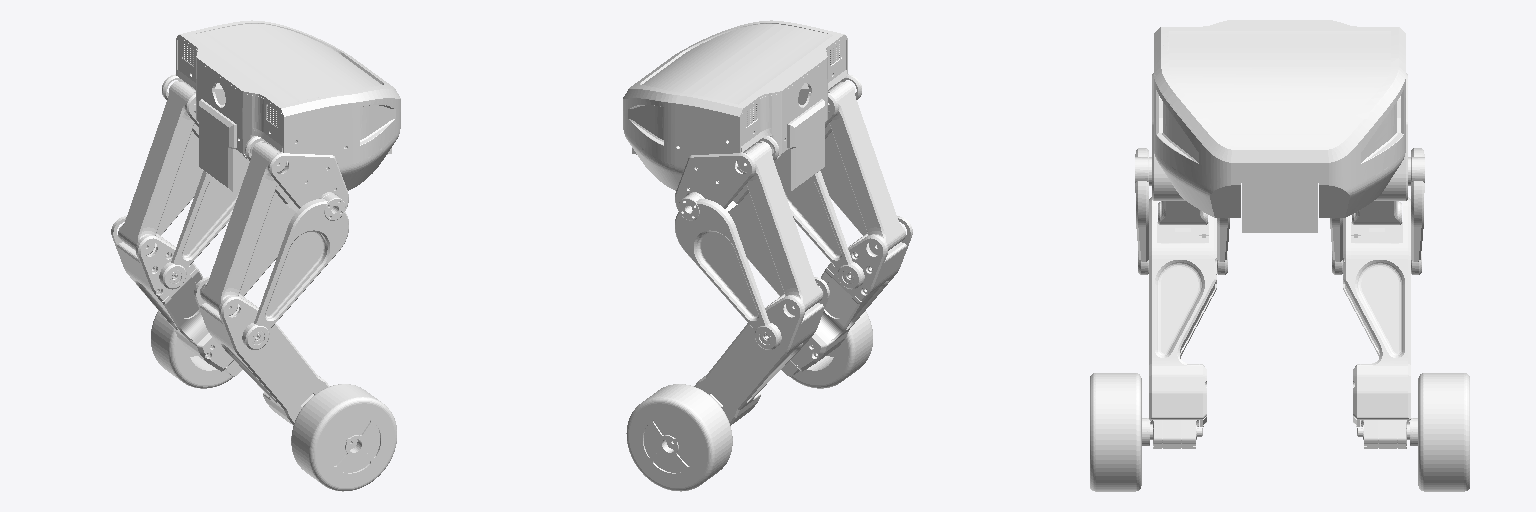
The robot description file, URDF, robot "converted_robot":
<?xml version="1.0" ?>
<robot name="converted_robot">
   <!--generated with mjcf_urdf_simple_converter (https://github.com/Yasu31/mjcf_urdf_simple_converter)-->
   <link name="world">
   </link>
   <link name="body">
      <visual name="back_cap">
         <origin xyz="-1.3017893472040155e-06 0.04705168550547671 0.020957944471496792" rpy="1.5707963267948966 0.09910741668815781 1.5707963267948966"/>
         <geometry>
            <mesh filename="package://real/urdf/converted_back_cap.stl"/>
         </geometry>
         <material name="white"/>
      </visual>
      <visual name="back">
         <origin xyz="-3.85359492032149e-08 0.04173286765710978 0.06858943844446108" rpy="1.5707963267948966 -0.1361996668310712 1.5707963267948966"/>
         <geometry>
            <mesh filename="package://real/urdf/converted_back.stl"/>
         </geometry>
         <material name="white"/>
      </visual>
      <visual name="mounting_plate">
         <origin xyz="0.0005064714810789949 -0.022630207076506488 0.02728297722637198" rpy="-3.046848796651417 -1.3622233636494134 -1.6118938119900492"/>
         <geometry>
            <mesh filename="package://real/urdf/converted_mounting_plate.stl"/>
         </geometry>
         <material name="white"/>
      </visual>
      <visual name="shell">
         <origin xyz="2.9272794857905294e-06 -0.03412086291499505 0.05146825679083157" rpy="-1.5707450393008402 -1.0087108776142575 -1.5708175925832464"/>
         <geometry>
            <mesh filename="package://real/urdf/converted_shell.stl"/>
         </geometry>
         <material name="white"/>
      </visual>
      <visual name="battery">
         <origin xyz="0.0 -0.021999999999999995 0.017500000000000005" rpy="1.5707963267948966 -1.5707963267948966 0.0"/>
         <geometry>
            <mesh filename="package://real/urdf/converted_battery.stl"/>
         </geometry>
         <material name="white"/>
      </visual>
   </link>
   <joint type="fixed" name="world2body_fixed">
      <parent link="world"/>
      <child link="body"/>
      <origin xyz="0.0 0.0 0.0" rpy="0.0 0.0 1.5707963267948963"/>
   </joint>
   <link name="R_leg">
      <inertial>
         <origin xyz="0.00018783278849772705 0.005918668289206253 0.01467563643099721" rpy="-0.018424504058215163 0.5085271255131132 1.5302644864367805"/>
         <mass value="0.095"/>
         <inertia ixx="3.355776242730135e-05" iyy="2.9983109543121377e-05" izz="1.742999638054603e-05" ixy="0" ixz="0" iyz="0"/>
      </inertial>
      <visual name="R_hip">
         <origin xyz="0.00038823186777163423 0.007685755288271978 0.016511936282671336" rpy="-0.07984572359778741 0.5907813735887242 1.4507917776865322"/>
         <geometry>
            <mesh filename="package://real/urdf/converted_R_hip.stl"/>
         </geometry>
         <material name="white"/>
      </visual>
      <visual name="R_hip_servo">
         <origin xyz="7.093332558794784e-05 0.004887867539751247 0.013604461517520637" rpy="0.02923429886292006 0.3459158051837452 1.571544480597519"/>
         <geometry>
            <mesh filename="package://real/urdf/converted_R_hip_servo.stl"/>
         </geometry>
         <material name="white"/>
      </visual>
   </link>
   <joint type="fixed" name="body2R_leg_fixed">
      <parent link="body"/>
      <child link="R_leg"/>
      <origin xyz="-0.0654 0.0 0.0" rpy="0.0 0.0 0.0"/>
   </joint>
   <link name="R_thigh">
      <inertial>
         <origin xyz="-1.93156937427319e-05 0.029542550175577838 -0.041686377631257654" rpy="-0.0013084836690608892 -0.6166563133427576 1.5707963267948968"/>
         <mass value="0.04"/>
         <inertia ixx="6.72480900402196e-05" iyy="5.3689716820993514e-05" izz="1.9513574556234947e-05" ixy="0" ixz="0" iyz="0"/>
      </inertial>
      <visual name="R_thigh">
         <origin xyz="-1.93156937427319e-05 0.029542550175577838 -0.041686377631257654" rpy="-0.0013084836690608892 -0.6166563133427577 1.5707963267948966"/>
         <geometry>
            <mesh filename="package://real/urdf/converted_R_thigh.stl"/>
         </geometry>
         <material name="white"/>
      </visual>
   </link>
   <link name="R_hip_jointbody">
      <inertial>
         <origin xyz="0.0 0.0 0.0" rpy="0.0 0.0 0.0"/>
         <mass value="0.001"/>
         <inertia ixx="1e-09" iyy="1e-09" izz="1e-09" ixy="0" ixz="0" iyz="0"/>
      </inertial>
   </link>
   <joint type="revolute" name="R_hip">
      <parent link="R_leg"/>
      <child link="R_hip_jointbody"/>
      <origin xyz="-0.0177 -8e-06 7e-06" rpy="0.0 0.0 0.0"/>
      <axis xyz="1.0 0.0 0.0"/>
      <limit lower="0.0" upper="0.0" effort="100" velocity="100"/>
   </joint>
   <joint type="fixed" name="R_hip_offset">
      <parent link="R_hip_jointbody"/>
      <child link="R_thigh"/>
      <origin xyz="0.0177 8e-06 -7e-06" rpy="0.0 0.0 0.0"/>
   </joint>
   <link name="R_shin">
      <inertial>
         <origin xyz="-0.0030644877701907214 0.02758176919692322 -0.15408565826256643" rpy="0.06011168617215179 0.6246093917962585 1.5795761449033665"/>
         <mass value="0.12"/>
         <inertia ixx="0.0002452394386700719" iyy="0.000239594724237697" izz="2.205816915135748e-05" ixy="0" ixz="0" iyz="0"/>
      </inertial>
      <visual name="R_shin">
         <origin xyz="-0.0007732368426556091 0.04750478541050801 -0.12639033739694466" rpy="0.04478536342579842 0.6266757892014847 1.5904754797573628"/>
         <geometry>
            <mesh filename="package://real/urdf/converted_R_shin.stl"/>
         </geometry>
         <material name="white"/>
      </visual>
      <visual name="R_shin_servo">
         <origin xyz="-0.0053557386977258325 0.007658752983338433 -0.18178097912818825" rpy="0.029476548374650635 0.6286543606640387 1.5716548668968995"/>
         <geometry>
            <mesh filename="package://real/urdf/converted_R_shin_servo.stl"/>
         </geometry>
         <material name="white"/>
      </visual>
   </link>
   <link name="R_shin_jointbody">
      <inertial>
         <origin xyz="0.0 0.0 0.0" rpy="0.0 0.0 0.0"/>
         <mass value="0.001"/>
         <inertia ixx="1e-09" iyy="1e-09" izz="1e-09" ixy="0" ixz="0" iyz="0"/>
      </inertial>
   </link>
   <joint type="revolute" name="R_shin">
      <parent link="R_thigh"/>
      <child link="R_shin_jointbody"/>
      <origin xyz="-0.0177 0.068524 -0.096679" rpy="0.0 0.0 0.0"/>
      <axis xyz="1.0 0.0 0.0"/>
      <limit lower="0.0" upper="0.0" effort="100" velocity="100"/>
   </joint>
   <joint type="fixed" name="R_shin_offset">
      <parent link="R_shin_jointbody"/>
      <child link="R_shin"/>
      <origin xyz="0.0177 -0.068524 0.096679" rpy="0.0 0.0 0.0"/>
   </joint>
   <link name="R_link">
      <inertial>
         <origin xyz="-1.0357761478282062e-07 0.06453533822888903 -0.01615885569075709" rpy="0.0 -0.3788145161304679 1.5707963267948968"/>
         <mass value="0.03"/>
         <inertia ixx="5.223291601939314e-05" iyy="5.082332556459172e-05" izz="2.4974811136368724e-06" ixy="0" ixz="0" iyz="0"/>
      </inertial>
      <visual name="R_link">
         <origin xyz="-1.0357761478282062e-07 0.06453533822888903 -0.01615885569075709" rpy="0.0 -0.3788145161304677 1.5707963267948966"/>
         <geometry>
            <mesh filename="package://real/urdf/converted_R_link.stl"/>
         </geometry>
         <material name="white"/>
      </visual>
   </link>
   <link name="R_link_jointbody">
      <inertial>
         <origin xyz="0.0 0.0 0.0" rpy="0.0 0.0 0.0"/>
         <mass value="0.001"/>
         <inertia ixx="1e-09" iyy="1e-09" izz="1e-09" ixy="0" ixz="0" iyz="0"/>
      </inertial>
   </link>
   <joint type="revolute" name="R_link">
      <parent link="R_shin"/>
      <child link="R_link_jointbody"/>
      <origin xyz="-0.0177 0.086545 -0.071455" rpy="0.0 0.0 0.0"/>
      <axis xyz="1.0 0.0 0.0"/>
      <limit lower="0.0" upper="0.0" effort="100" velocity="100"/>
   </joint>
   <joint type="fixed" name="R_link_offset">
      <parent link="R_link_jointbody"/>
      <child link="R_link"/>
      <origin xyz="0.0177 -0.086545 0.071455" rpy="0.0 0.0 0.0"/>
   </joint>
   <link name="R_foot">
      <inertial>
         <origin xyz="-0.04513895095818226 -0.0008379780728815871 -0.19347312397271466" rpy="2.3935463914845023e-10 3.717269010494739e-05 6.4389915963794836e-06"/>
         <mass value="0.2809557368467721"/>
         <inertia ixx="0.00020391702485105176" iyy="0.0001296759369133871" izz="0.000129674731888178" ixy="0" ixz="0" iyz="0"/>
      </inertial>
      <visual name="R_foot">
         <origin xyz="-0.04539039068841661 -0.000837938394502894 -0.19347153875108544" rpy="2.932427570976866e-09 0.00013177355507232313 2.2253536207419437e-05"/>
         <geometry>
            <mesh filename="package://real/urdf/converted_R_foot.stl"/>
         </geometry>
         <material name="white"/>
      </visual>
   </link>
   <link name="R_foot_jointbody">
      <inertial>
         <origin xyz="0.0 0.0 0.0" rpy="0.0 0.0 0.0"/>
         <mass value="0.001"/>
         <inertia ixx="1e-09" iyy="1e-09" izz="1e-09" ixy="0" ixz="0" iyz="0"/>
      </inertial>
   </link>
   <joint type="revolute" name="R_foot">
      <parent link="R_shin"/>
      <child link="R_foot_jointbody"/>
      <origin xyz="-0.0177 -0.000838 -0.193474" rpy="0.0 0.0 0.0"/>
      <axis xyz="1.0 0.0 0.0"/>
      <limit lower="0.0" upper="0.0" effort="100" velocity="100"/>
   </joint>
   <joint type="fixed" name="R_foot_offset">
      <parent link="R_foot_jointbody"/>
      <child link="R_foot"/>
      <origin xyz="0.0177 0.000838 0.193474" rpy="0.0 0.0 0.0"/>
   </joint>
   <link name="L_leg">
      <inertial>
         <origin xyz="-0.00018783278849772694 0.005918668289206252 0.014675636430997207" rpy="0.018424504058215052 0.5085271255131132 1.6113281671530126"/>
         <mass value="0.095"/>
         <inertia ixx="3.3557762427301364e-05" iyy="2.998310954312138e-05" izz="1.742999638054604e-05" ixy="0" ixz="0" iyz="0"/>
      </inertial>
      <visual name="L_hip">
         <origin xyz="-0.00038823186777163423 0.007685755288271978 0.016511936282671336" rpy="0.07984572359778752 0.5907813735887242 1.690800875903261"/>
         <geometry>
            <mesh filename="package://real/urdf/converted_L_hip.stl"/>
         </geometry>
         <material name="white"/>
      </visual>
      <visual name="L_hip_servo">
         <origin xyz="-7.09333255879477e-05 0.004887867539751246 0.013604461517520634" rpy="-0.02923429886292017 0.3459158051837452 1.5700481729922744"/>
         <geometry>
            <mesh filename="package://real/urdf/converted_L_hip_servo.stl"/>
         </geometry>
         <material name="white"/>
      </visual>
   </link>
   <joint type="fixed" name="body2L_leg_fixed">
      <parent link="body"/>
      <child link="L_leg"/>
      <origin xyz="0.0654 0.0 0.0" rpy="0.0 0.0 0.0"/>
   </joint>
   <link name="L_thigh">
      <inertial>
         <origin xyz="1.9315693742735344e-05 0.029542550175577838 -0.041686377631257654" rpy="0.0013084836690608892 -0.6166563133427576 1.5707963267948963"/>
         <mass value="0.04"/>
         <inertia ixx="6.724809004021961e-05" iyy="5.3689716820993534e-05" izz="1.9513574556234947e-05" ixy="0" ixz="0" iyz="0"/>
      </inertial>
      <visual name="L_thigh">
         <origin xyz="1.9315693742735344e-05 0.029542550175577838 -0.041686377631257654" rpy="0.0013084836690608892 -0.6166563133427577 1.5707963267948966"/>
         <geometry>
            <mesh filename="package://real/urdf/converted_L_thigh.stl"/>
         </geometry>
         <material name="white"/>
      </visual>
   </link>
   <link name="L_hip_jointbody">
      <inertial>
         <origin xyz="0.0 0.0 0.0" rpy="0.0 0.0 0.0"/>
         <mass value="0.001"/>
         <inertia ixx="1e-09" iyy="1e-09" izz="1e-09" ixy="0" ixz="0" iyz="0"/>
      </inertial>
   </link>
   <joint type="revolute" name="L_hip">
      <parent link="L_leg"/>
      <child link="L_hip_jointbody"/>
      <origin xyz="-0.0177 -8e-06 7e-06" rpy="0.0 0.0 0.0"/>
      <axis xyz="1.0 0.0 0.0"/>
      <limit lower="0.0" upper="0.0" effort="100" velocity="100"/>
   </joint>
   <joint type="fixed" name="L_hip_offset">
      <parent link="L_hip_jointbody"/>
      <child link="L_thigh"/>
      <origin xyz="0.0177 8e-06 -7e-06" rpy="0.0 0.0 0.0"/>
   </joint>
   <link name="L_shin">
      <inertial>
         <origin xyz="0.003064487770190723 0.027581769196923216 -0.15408565826256648" rpy="-0.06011168617215212 0.6246093917962581 1.5620165086864266"/>
         <mass value="0.12"/>
         <inertia ixx="0.000245239438670072" iyy="0.00023959472423769711" izz="2.20581691513575e-05" ixy="0" ixz="0" iyz="0"/>
      </inertial>
      <visual name="L_shin">
         <origin xyz="0.0007732368426556096 0.047504785410508 -0.1263903373969447" rpy="-0.04478536342579842 0.6266757892014847 1.5511171738324303"/>
         <geometry>
            <mesh filename="package://real/urdf/converted_L_shin.stl"/>
         </geometry>
         <material name="white"/>
      </visual>
      <visual name="L_shin_servo">
         <origin xyz="0.005355738697725837 0.007658752983338434 -0.18178097912818833" rpy="-0.029476548374650746 0.6286543606640391 1.5699377866928939"/>
         <geometry>
            <mesh filename="package://real/urdf/converted_L_shin_servo.stl"/>
         </geometry>
         <material name="white"/>
      </visual>
   </link>
   <link name="L_shin_jointbody">
      <inertial>
         <origin xyz="0.0 0.0 0.0" rpy="0.0 0.0 0.0"/>
         <mass value="0.001"/>
         <inertia ixx="1e-09" iyy="1e-09" izz="1e-09" ixy="0" ixz="0" iyz="0"/>
      </inertial>
   </link>
   <joint type="revolute" name="L_shin">
      <parent link="L_thigh"/>
      <child link="L_shin_jointbody"/>
      <origin xyz="-0.0177 0.068524 -0.096679" rpy="0.0 0.0 0.0"/>
      <axis xyz="1.0 0.0 0.0"/>
      <limit lower="0.0" upper="0.0" effort="100" velocity="100"/>
   </joint>
   <joint type="fixed" name="L_shin_offset">
      <parent link="L_shin_jointbody"/>
      <child link="L_shin"/>
      <origin xyz="0.0177 -0.068524 0.096679" rpy="0.0 0.0 0.0"/>
   </joint>
   <link name="L_link">
      <inertial>
         <origin xyz="1.0357761478281944e-07 0.06453533822888902 -0.016158855690757087" rpy="0.0 -0.3788145161304679 1.5707963267948968"/>
         <mass value="0.03"/>
         <inertia ixx="5.2232916019393134e-05" iyy="5.0823325564591695e-05" izz="2.497481113636869e-06" ixy="0" ixz="0" iyz="0"/>
      </inertial>
      <visual name="L_link">
         <origin xyz="1.0357761478281944e-07 0.06453533822888902 -0.016158855690757087" rpy="0.0 -0.3788145161304677 1.5707963267948966"/>
         <geometry>
            <mesh filename="package://real/urdf/converted_L_link.stl"/>
         </geometry>
         <material name="white"/>
      </visual>
   </link>
   <link name="L_link_jointbody">
      <inertial>
         <origin xyz="0.0 0.0 0.0" rpy="0.0 0.0 0.0"/>
         <mass value="0.001"/>
         <inertia ixx="1e-09" iyy="1e-09" izz="1e-09" ixy="0" ixz="0" iyz="0"/>
      </inertial>
   </link>
   <joint type="revolute" name="L_link">
      <parent link="L_shin"/>
      <child link="L_link_jointbody"/>
      <origin xyz="-0.0177 0.086545 -0.071455" rpy="0.0 0.0 0.0"/>
      <axis xyz="1.0 0.0 0.0"/>
      <limit lower="0.0" upper="0.0" effort="100" velocity="100"/>
   </joint>
   <joint type="fixed" name="L_link_offset">
      <parent link="L_link_jointbody"/>
      <child link="L_link"/>
      <origin xyz="0.0177 -0.086545 0.071455" rpy="0.0 0.0 0.0"/>
   </joint>
   <link name="L_foot">
      <inertial>
         <origin xyz="0.04513895095818226 -0.0008379780728815874 -0.19347312397271466" rpy="2.3935463914845023e-10 -3.717269010472535e-05 -6.4389915963794836e-06"/>
         <mass value="0.2809557368467721"/>
         <inertia ixx="0.00020391702485105176" iyy="0.00012967593691338706" izz="0.000129674731888178" ixy="0" ixz="0" iyz="0"/>
      </inertial>
      <visual name="L_foot">
         <origin xyz="0.04539039068841661 -0.0008379383945028946 -0.19347153875108544" rpy="2.932427570976866e-09 -0.0001317735550721011 -2.2253536207419437e-05"/>
         <geometry>
            <mesh filename="package://real/urdf/converted_L_foot.stl"/>
         </geometry>
         <material name="white"/>
      </visual>
   </link>
   <link name="L_foot_jointbody">
      <inertial>
         <origin xyz="0.0 0.0 0.0" rpy="0.0 0.0 0.0"/>
         <mass value="0.001"/>
         <inertia ixx="1e-09" iyy="1e-09" izz="1e-09" ixy="0" ixz="0" iyz="0"/>
      </inertial>
   </link>
   <joint type="revolute" name="L_foot">
      <parent link="L_shin"/>
      <child link="L_foot_jointbody"/>
      <origin xyz="-0.0177 -0.000838 -0.193474" rpy="0.0 0.0 0.0"/>
      <axis xyz="1.0 0.0 0.0"/>
      <limit lower="0.0" upper="0.0" effort="100" velocity="100"/>
   </joint>
   <joint type="fixed" name="L_foot_offset">
      <parent link="L_foot_jointbody"/>
      <child link="L_foot"/>
      <origin xyz="0.0177 0.000838 0.193474" rpy="0.0 0.0 0.0"/>
   </joint>
   <material name="white">
      <color rgba="1 1 1 1"/>
   </material>
</robot>

--- What the picture shows (computed from the rendered views, not written in the file) ---
The picture shows the robot from 3 angles, left to right: view 1: azimuth 30°, elevation 25°; view 2: azimuth 150°, elevation 25°; view 3: azimuth 270°, elevation 25°; orthographic projection.
Robot: converted_robot — 20 links, 19 joints (8 revolute, 11 fixed); root link world; default pose: every joint at zero.
Visible links, largest first — view 1: body, R_foot, R_thigh, R_shin, L_shin, L_thigh, R_link, L_link, R_leg, L_foot; view 2: body, L_foot, L_thigh, L_shin, R_shin, R_thigh, L_link, R_link, L_leg, R_foot; view 3: body, R_shin, L_shin, R_foot, L_foot, R_thigh, L_thigh, R_link, L_link, R_leg, L_leg.
Link boxes in pixels (x1=…): body: x1=176, y1=20, x2=400, y2=191; R_foot: x1=291, y1=384, x2=396, y2=491; R_thigh: x1=239, y1=192, x2=348, y2=349; R_shin: x1=194, y1=277, x2=329, y2=425; L_shin: x1=111, y1=216, x2=242, y2=376; L_thigh: x1=157, y1=132, x2=239, y2=289; R_link: x1=201, y1=141, x2=286, y2=315; L_link: x1=118, y1=81, x2=195, y2=255; R_leg: x1=245, y1=136, x2=348, y2=211; L_foot: x1=151, y1=283, x2=232, y2=388; body: x1=623, y1=20, x2=847, y2=191; L_foot: x1=626, y1=384, x2=732, y2=491; L_thigh: x1=675, y1=192, x2=784, y2=349; L_shin: x1=694, y1=277, x2=829, y2=425; R_shin: x1=781, y1=216, x2=912, y2=376; R_thigh: x1=784, y1=132, x2=866, y2=289; L_link: x1=737, y1=141, x2=822, y2=315; R_link: x1=828, y1=81, x2=905, y2=255; L_leg: x1=675, y1=136, x2=778, y2=211; R_foot: x1=791, y1=283, x2=872, y2=388; body: x1=1154, y1=20, x2=1405, y2=232; R_shin: x1=1149, y1=197, x2=1216, y2=448; L_shin: x1=1343, y1=197, x2=1410, y2=448; R_foot: x1=1090, y1=373, x2=1152, y2=491; L_foot: x1=1407, y1=373, x2=1469, y2=491; R_thigh: x1=1135, y1=148, x2=1229, y2=274; L_thigh: x1=1330, y1=148, x2=1424, y2=274; R_link: x1=1158, y1=201, x2=1207, y2=224; L_link: x1=1352, y1=201, x2=1401, y2=224; R_leg: x1=1152, y1=73, x2=1185, y2=200; L_leg: x1=1374, y1=73, x2=1407, y2=200.
Size in the robot's own frame: 0.1925 by 0.2567 by 0.3231 metres.
Meshes: 19 distinct files referenced, 19 mesh visuals loaded (19 binary STL).